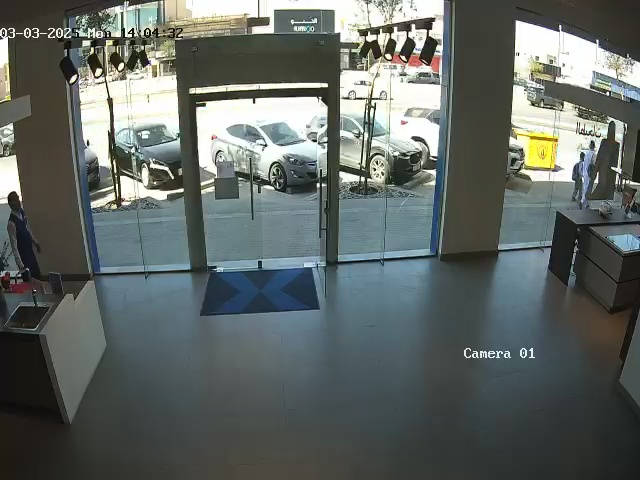employee: (6, 191, 43, 280)
male: (571, 152, 586, 201)
